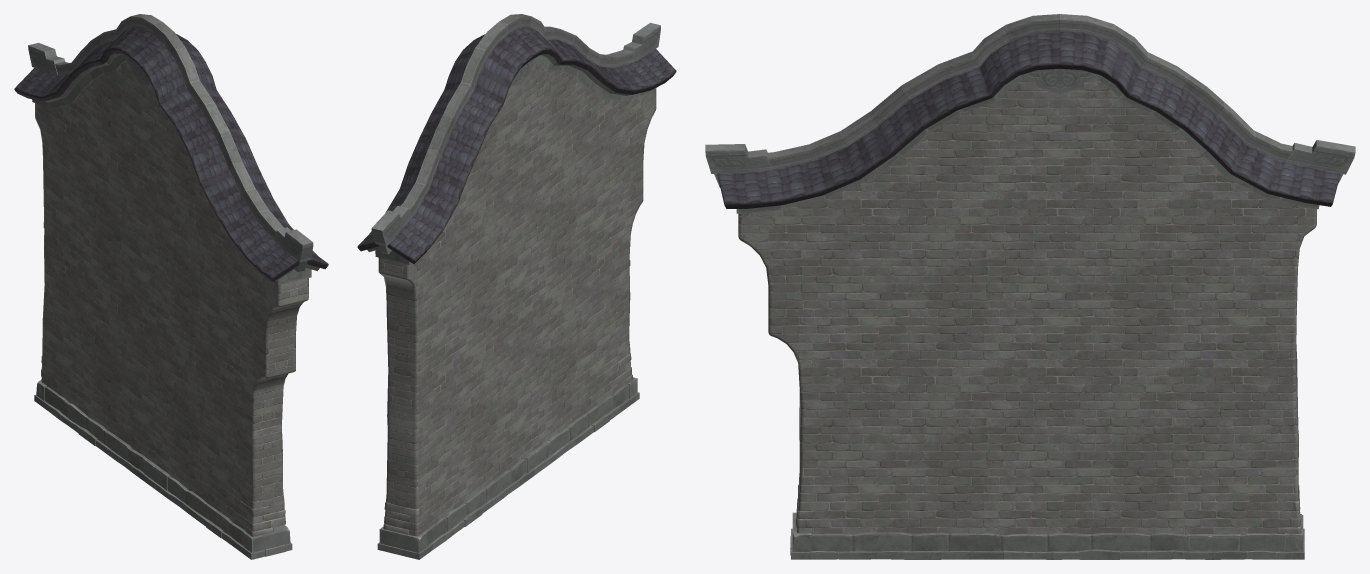
The model's file is Homeworld_Exterior_Cyg_Build_YlbQiang_01_Lod0.fbx.
The picture shows the model from 3 angles, left to right: view 1: azimuth 30°, elevation 25°; view 2: azimuth 150°, elevation 25°; view 3: azimuth 270°, elevation 25°; orthographic projection. The views are drawn at different scales.
Parts seen in each view (by area): view 1: Area_Cyg_Build_QYZ_Comp_Qiang_B_01_Lod0; view 2: Area_Cyg_Build_QYZ_Comp_Qiang_B_01_Lod0; view 3: Area_Cyg_Build_QYZ_Comp_Qiang_B_01_Lod0.
Part boxes in pixels (left/top/right/bottom): Area_Cyg_Build_QYZ_Comp_Qiang_B_01_Lod0: left=14, top=14, right=328, bottom=559; Area_Cyg_Build_QYZ_Comp_Qiang_B_01_Lod0: left=357, top=14, right=676, bottom=559; Area_Cyg_Build_QYZ_Comp_Qiang_B_01_Lod0: left=705, top=14, right=1355, bottom=559.
Bounding box in the file's own units: 1.84 × 13.19 × 14.64.
